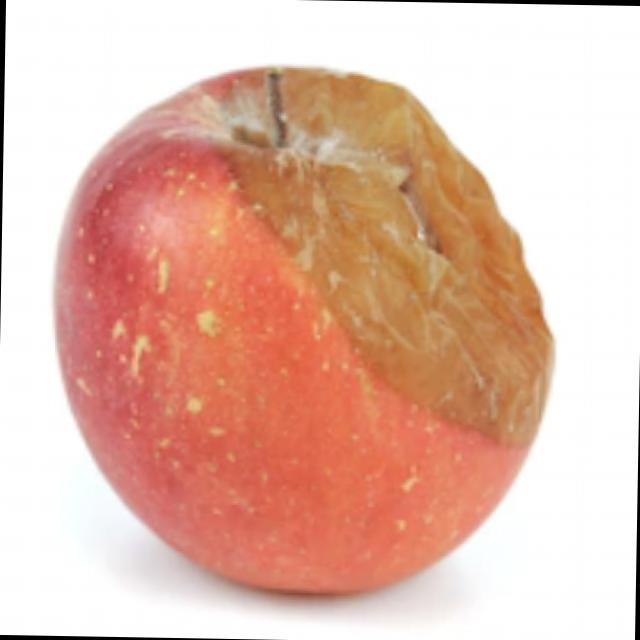rotten_apple: (44, 58, 558, 603)
